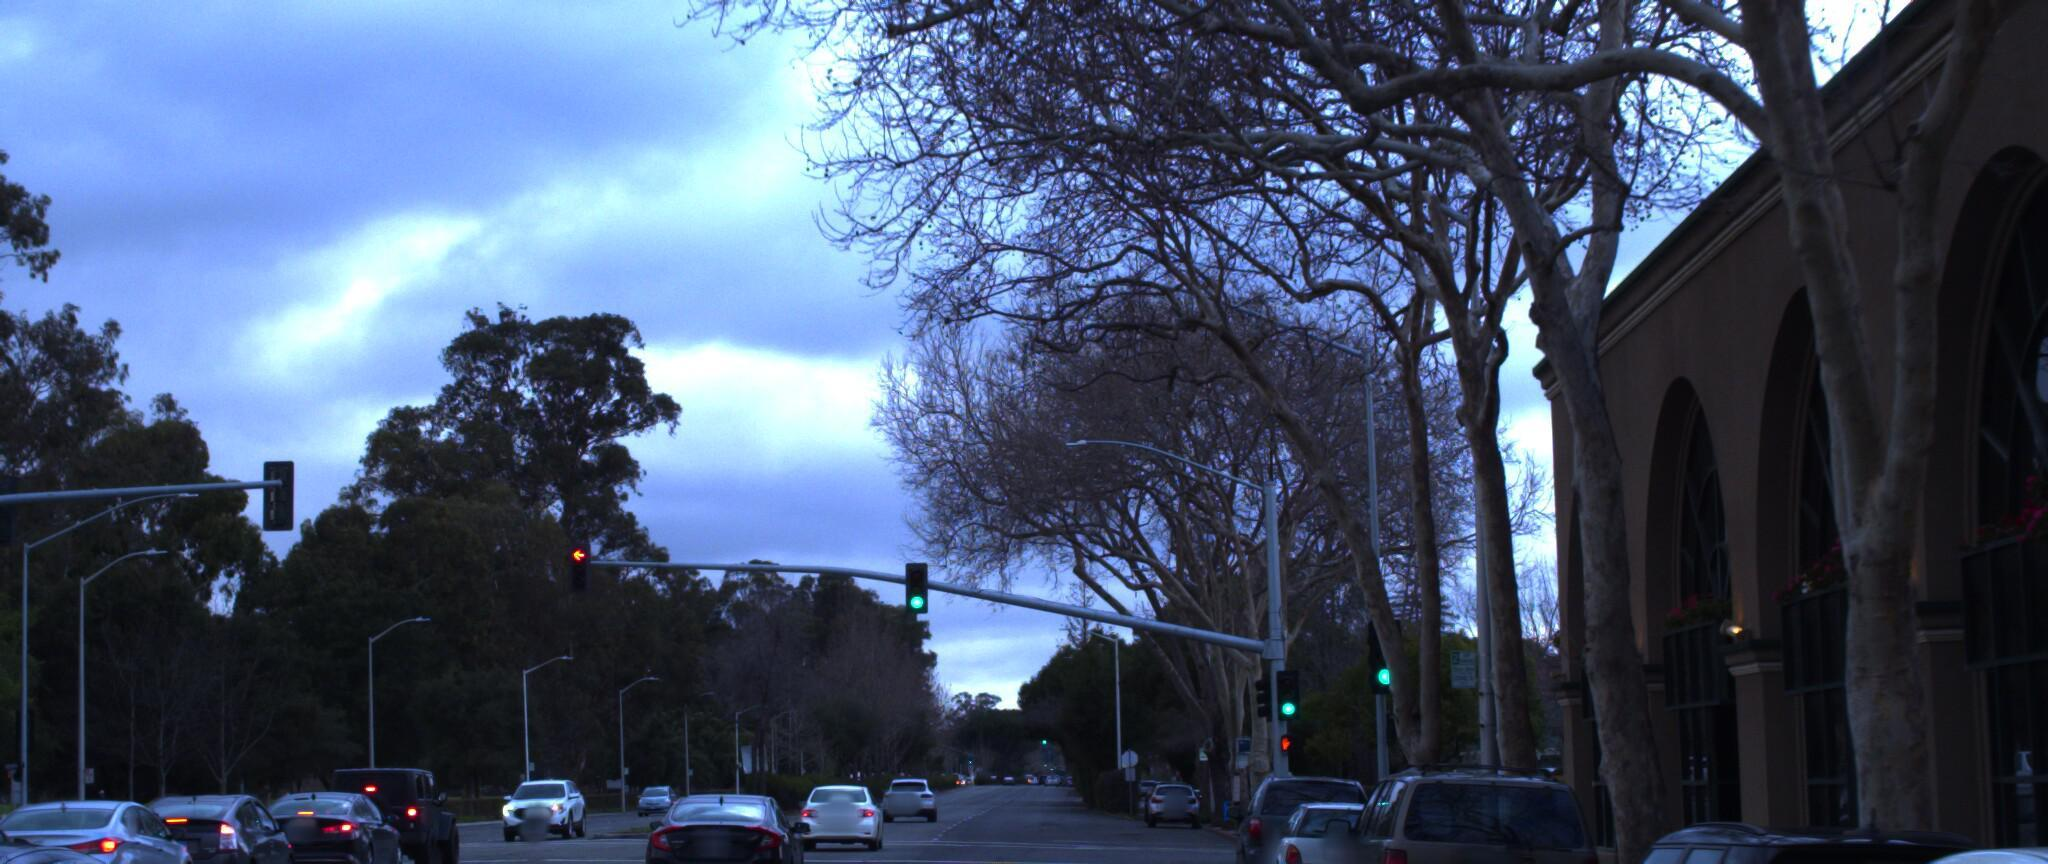car: (1334, 757, 1640, 864), (1673, 817, 2048, 864), (1503, 833, 2048, 864), (0, 814, 334, 864), (114, 784, 317, 864), (0, 790, 216, 864), (317, 760, 469, 864), (633, 774, 798, 864), (243, 786, 423, 864), (1230, 766, 1374, 864), (1247, 786, 1413, 864), (795, 779, 887, 850), (0, 790, 85, 864), (500, 766, 590, 834)
